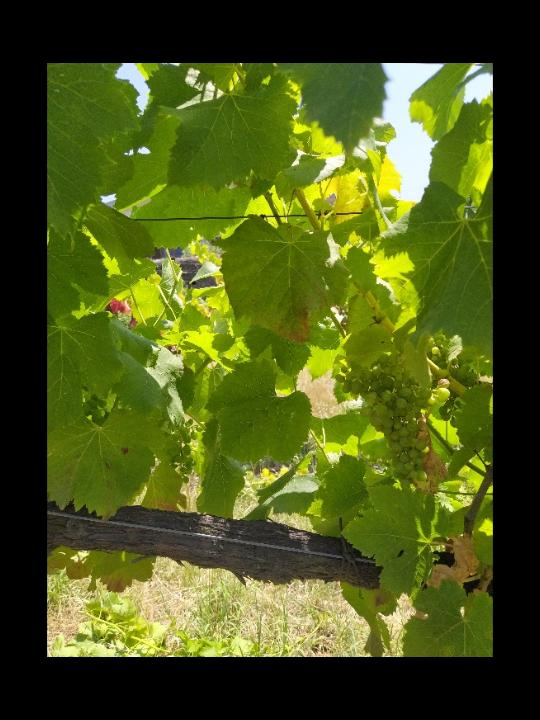grape: (336, 352, 452, 490), (163, 419, 205, 485)
